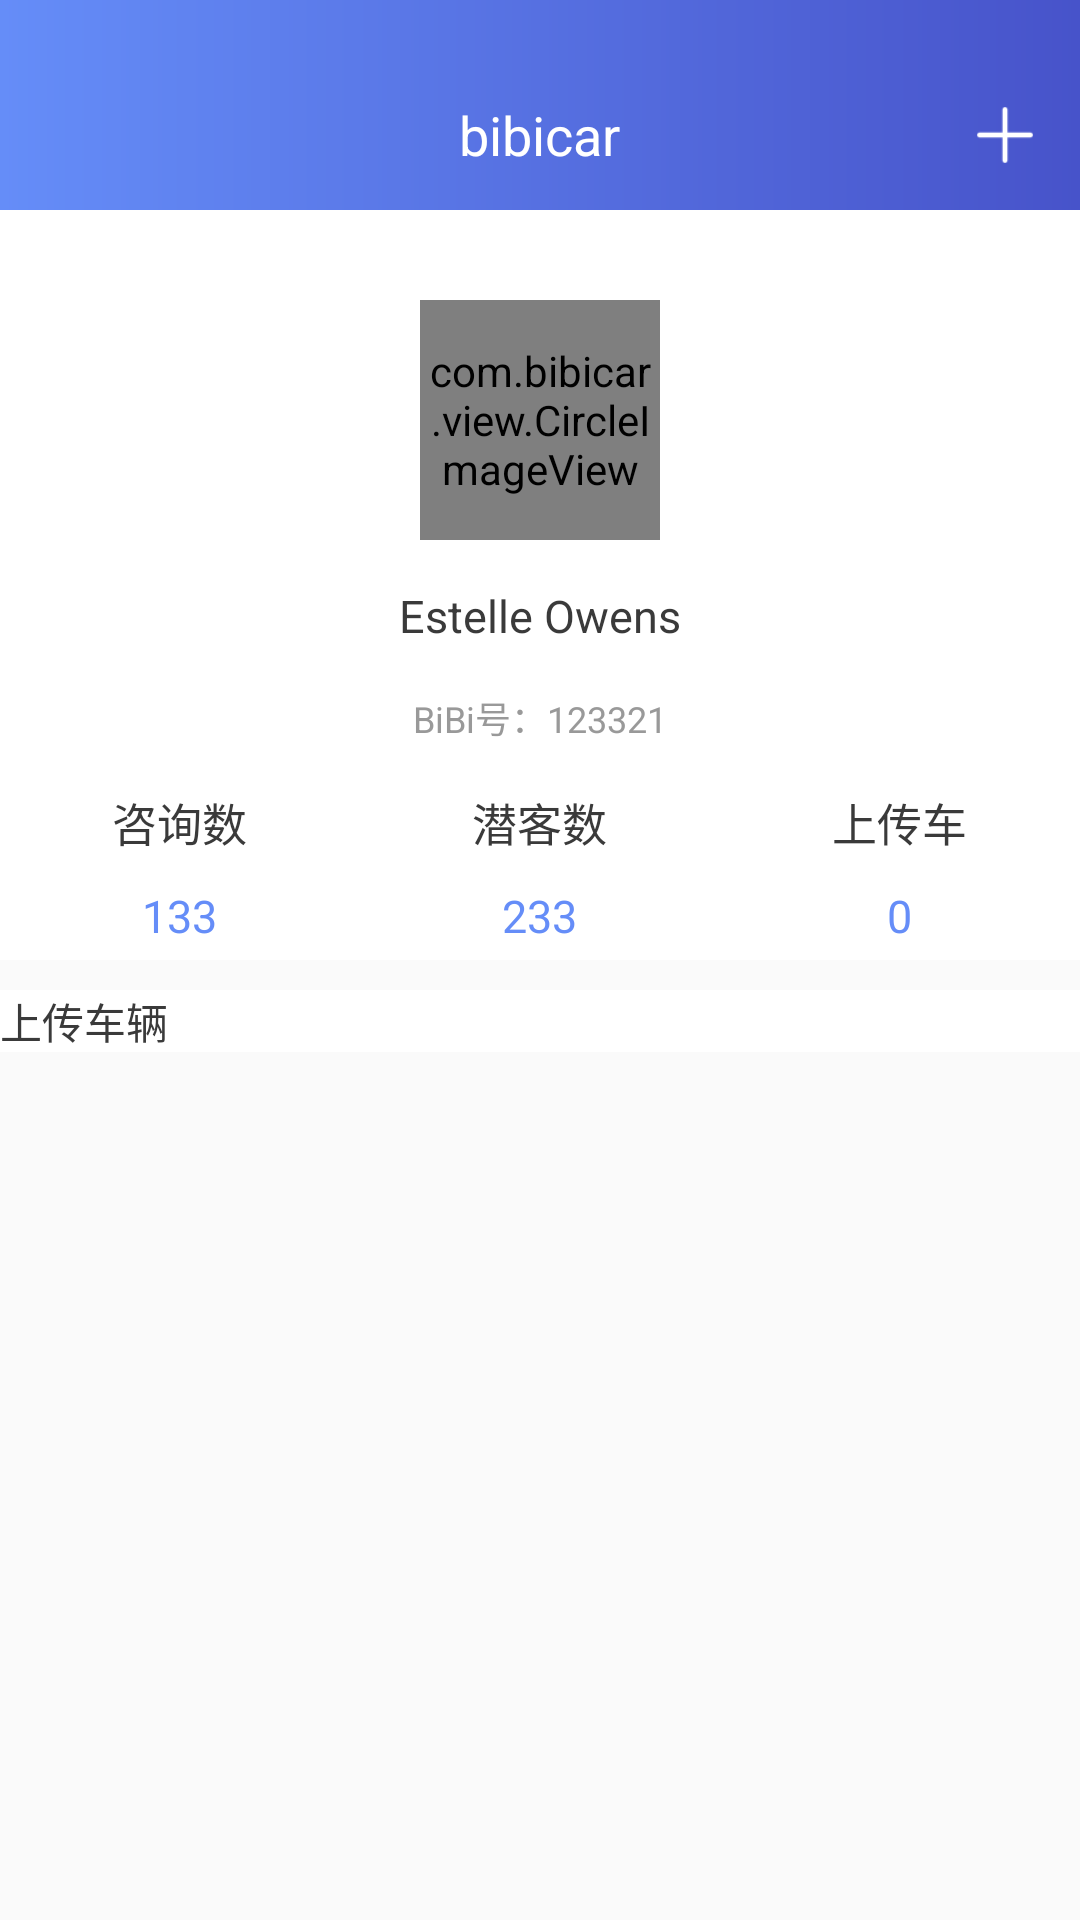

Named icons in this screenshot (1080px×1920px) and their centers, [x,y]:
title bar add: [1005,135]
